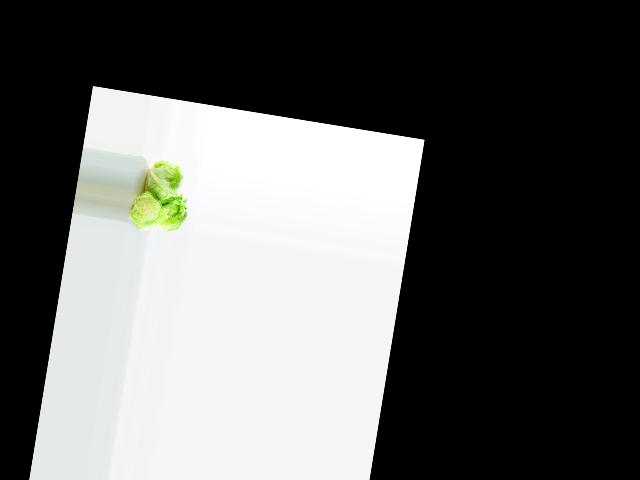lettuce: (153, 188, 194, 235)
